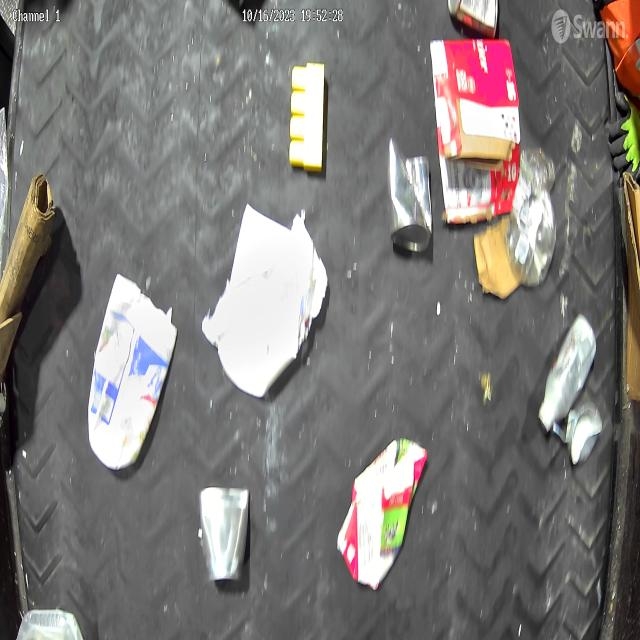can: (192, 474, 250, 590), (386, 132, 433, 257), (562, 396, 604, 463), (438, 0, 502, 33)
